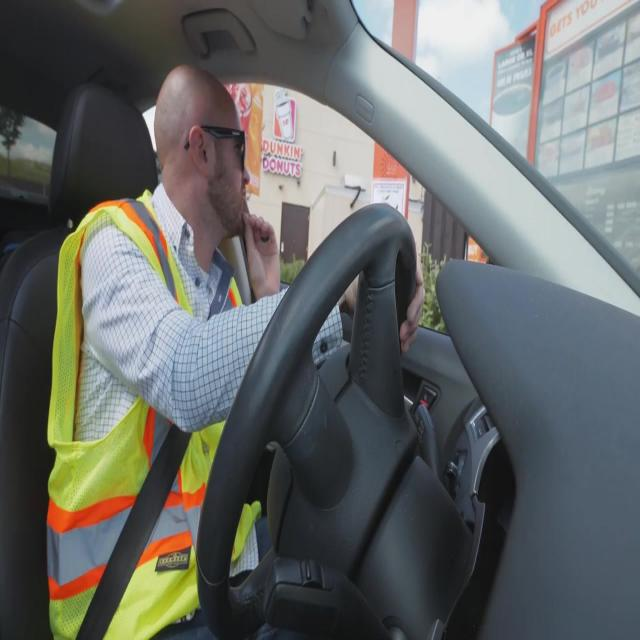Reflective-Jacket: (45, 203, 253, 633)
